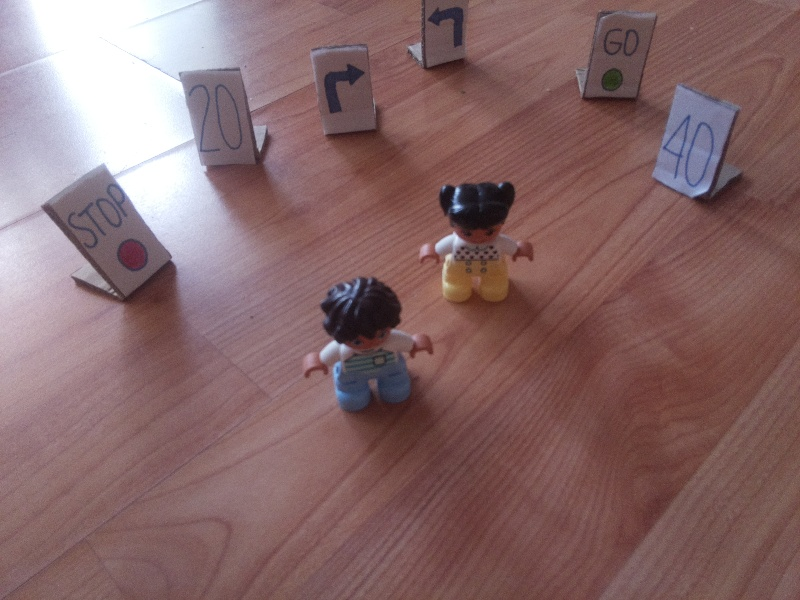20: (185, 76, 249, 158)
40: (655, 108, 714, 188)
go: (597, 26, 642, 96)
person: (301, 278, 435, 414), (427, 176, 531, 307)
stop: (55, 182, 149, 273)
turn left: (428, 4, 465, 55)
turn right: (318, 62, 369, 120)
